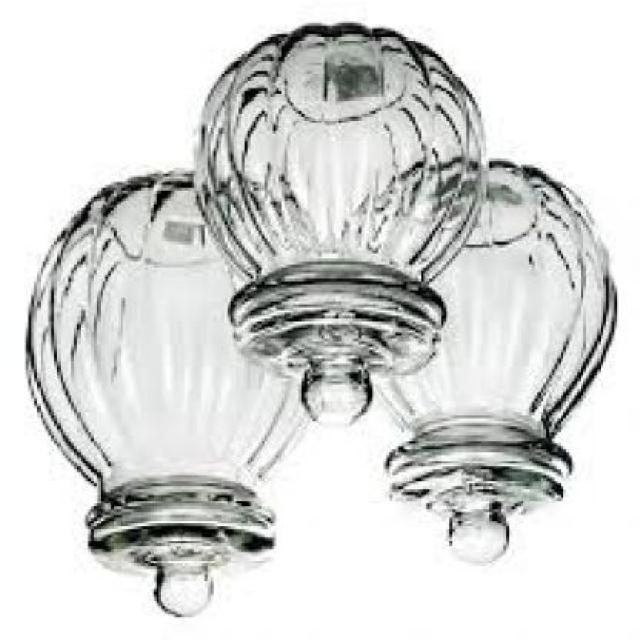GLASS: (26, 171, 312, 620), (191, 29, 489, 429), (361, 162, 617, 566)
